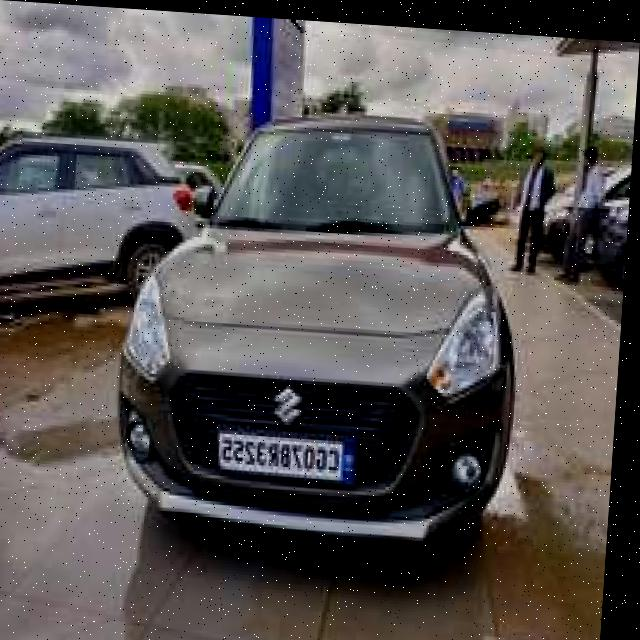plate: (220, 424, 366, 480)
